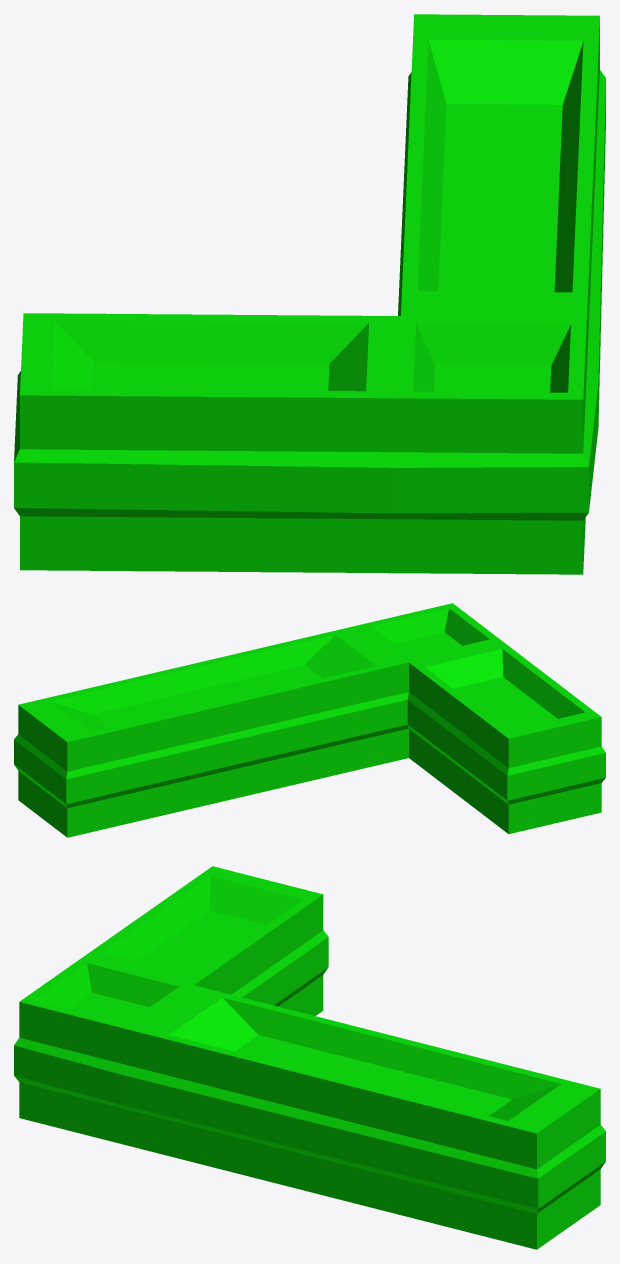
Rendered from ui_dui.fbx.
3 renders of one model, top to bottom at view 1: azimuth 30°, elevation 25°; view 2: azimuth 150°, elevation 25°; view 3: azimuth 270°, elevation 25°, orthographic. The views are drawn at different scales.
Parts seen in each view (by area): view 1: polySurface46; view 2: polySurface46; view 3: polySurface46.
Part boxes in pixels (<box>): polySurface46: <box>14,14,605,574</box>; polySurface46: <box>14,603,605,837</box>; polySurface46: <box>14,866,605,1249</box>.
Bounding box in the file's own units: 0.595 × 0.1187 × 0.5476.
